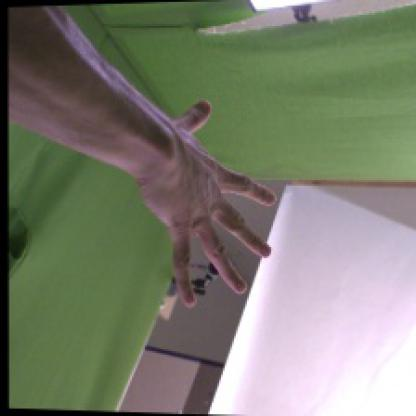Hand: (143, 98, 278, 308)
